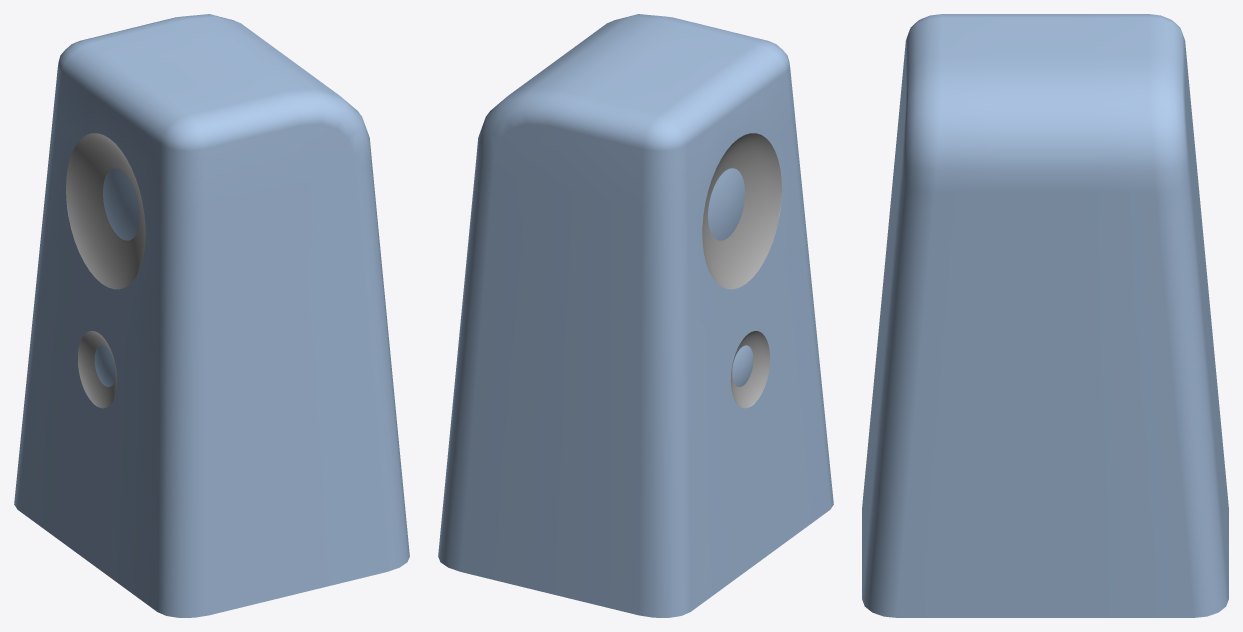
Rendered from speaker.mb.fbx.
The picture shows the model from 3 angles, left to right: view 1: azimuth 30°, elevation 25°; view 2: azimuth 150°, elevation 25°; view 3: azimuth 270°, elevation 25°; orthographic projection. The views are drawn at different scales.
Parts seen in each view (by area): view 1: pasted__pasted__pSphere1; view 2: pasted__pasted__pSphere1; view 3: pasted__pasted__pSphere1.
Part boxes in pixels (bbox=[...]): pasted__pasted__pSphere1: bbox=[14, 14, 409, 617]; pasted__pasted__pSphere1: bbox=[438, 14, 833, 617]; pasted__pasted__pSphere1: bbox=[862, 14, 1228, 617].
Size of the model in its own units: 2.5 by 4.5 by 3.
